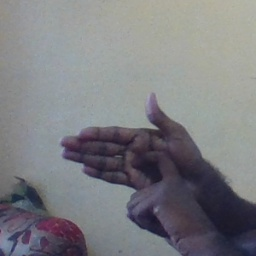R: (55, 93, 206, 229)
